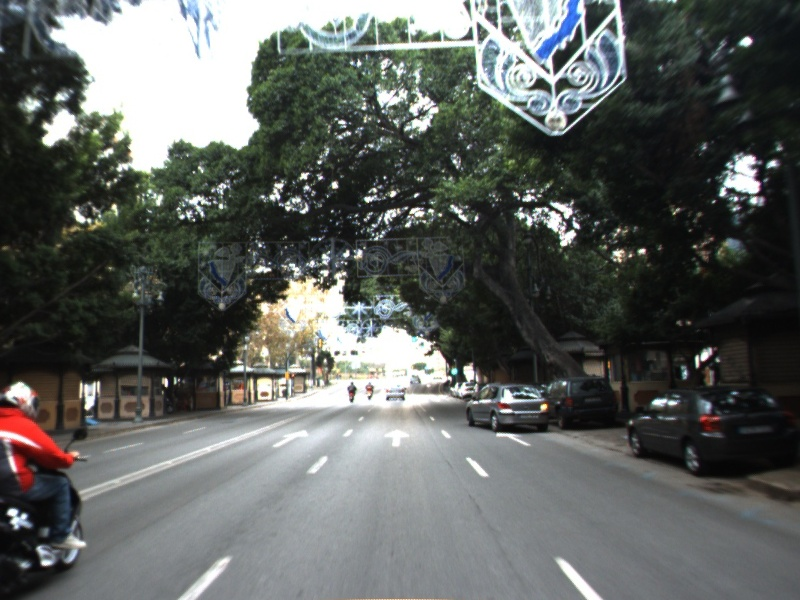STRAIGHT: (270, 428, 311, 449), (493, 430, 534, 448), (381, 427, 412, 448)
